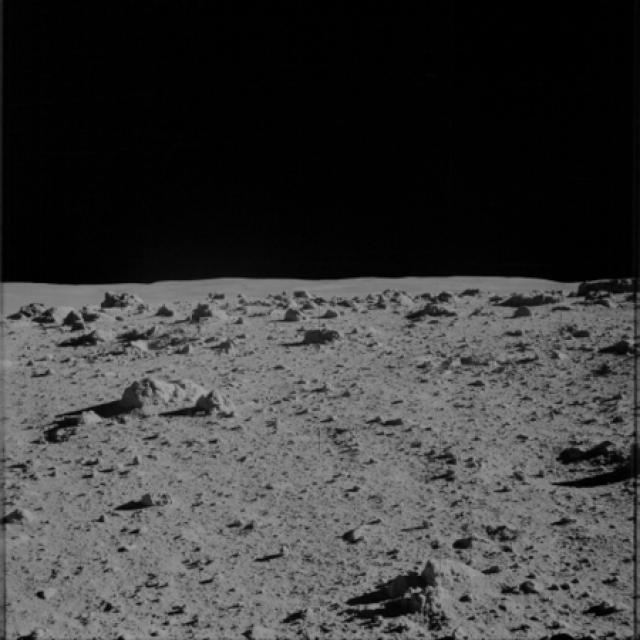rock: (388, 549, 494, 639), (229, 283, 417, 323), (110, 320, 240, 362), (114, 374, 205, 424), (9, 290, 102, 335), (186, 382, 240, 423), (302, 324, 355, 358), (492, 282, 560, 304), (68, 399, 112, 432), (132, 484, 177, 515), (0, 498, 33, 535), (102, 283, 144, 312), (557, 313, 595, 345), (608, 330, 638, 361), (188, 298, 224, 319), (420, 298, 448, 320)
